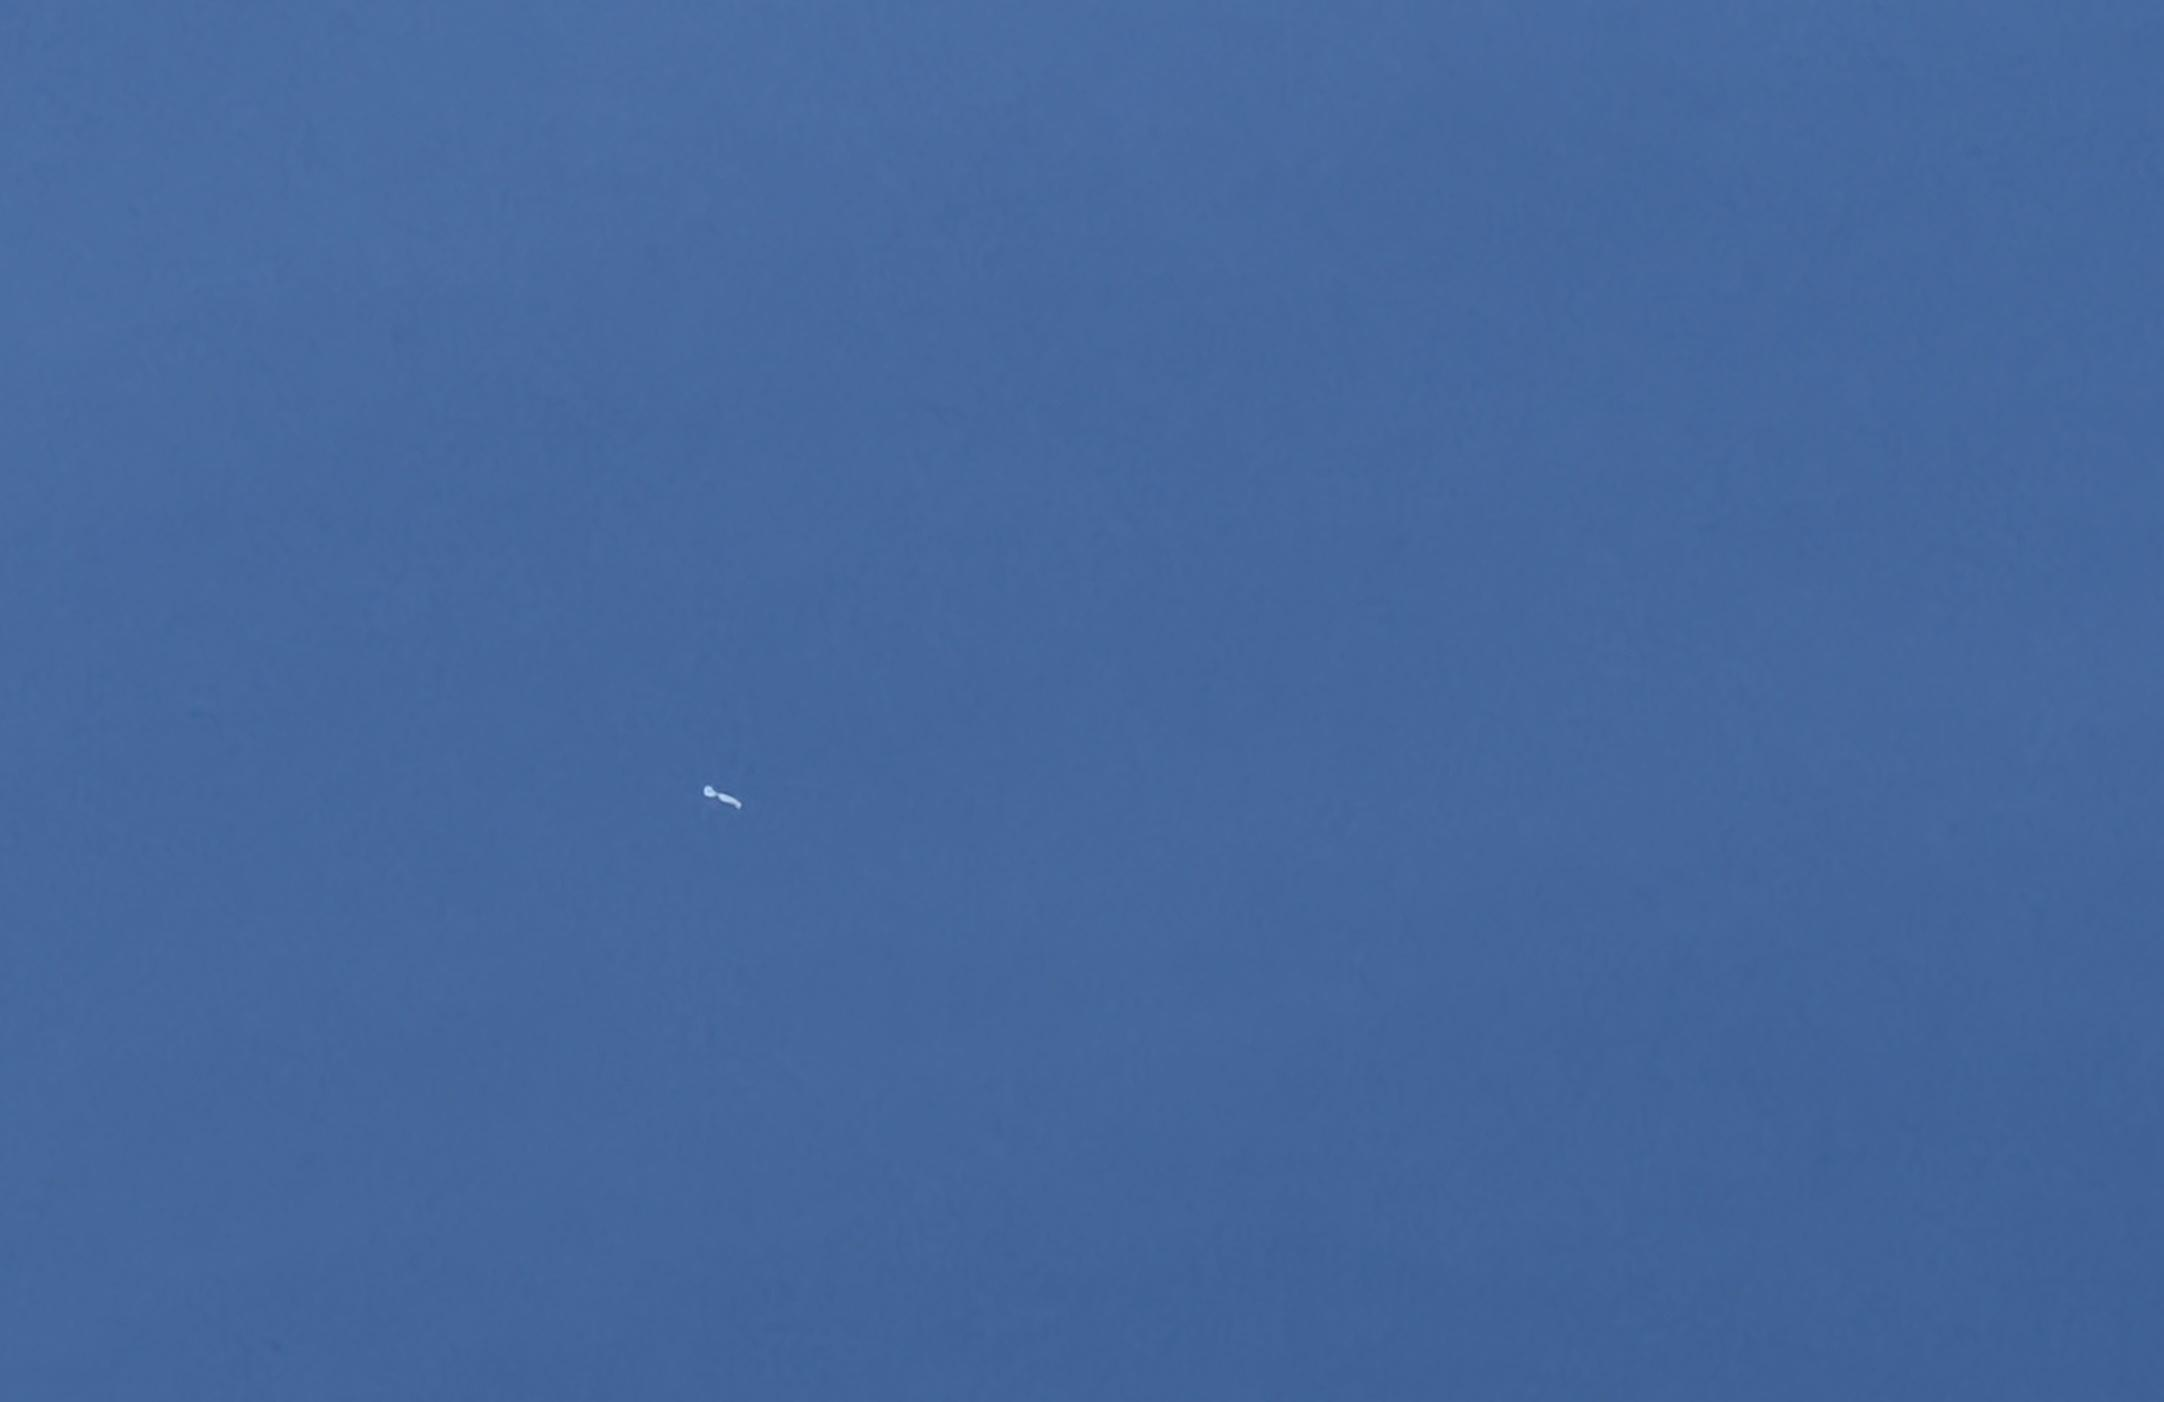Plane: (662, 777, 800, 841)
